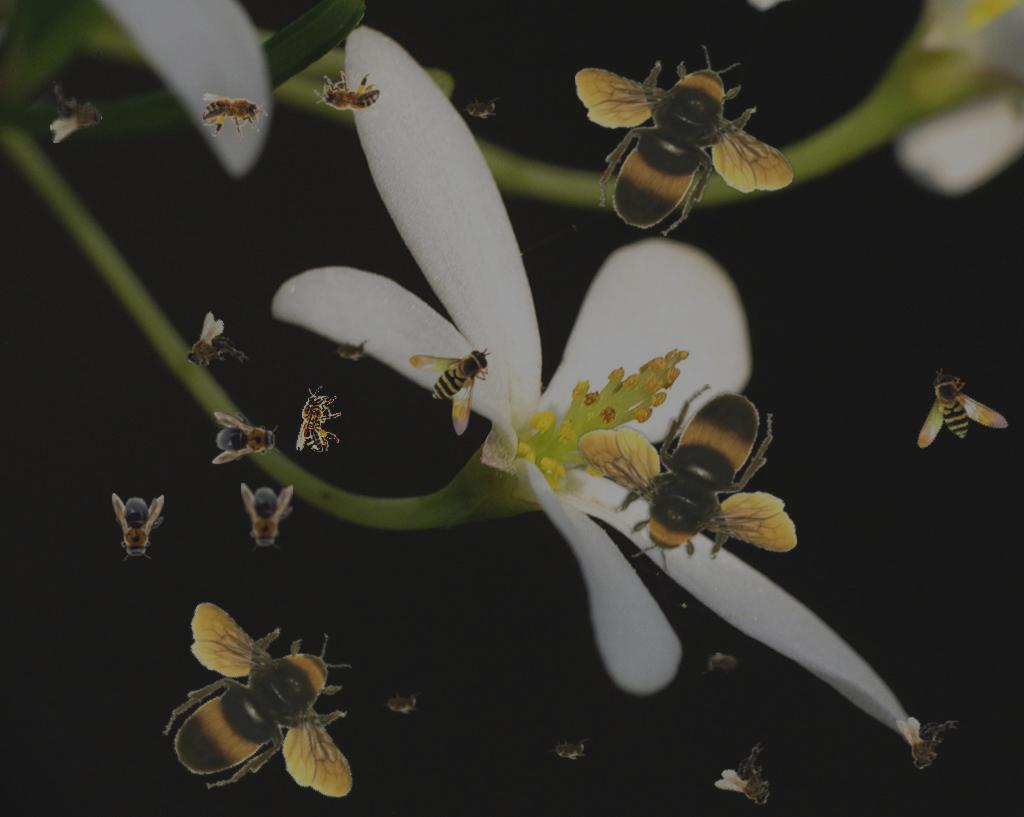Bee: (127, 577, 409, 817), (575, 45, 795, 236), (577, 384, 797, 575), (908, 366, 1020, 474), (409, 348, 491, 436), (171, 309, 252, 391), (711, 739, 794, 817), (241, 483, 293, 551), (212, 412, 280, 464), (112, 493, 164, 561), (200, 90, 270, 139), (50, 81, 103, 143), (896, 717, 958, 770), (296, 386, 341, 452), (314, 71, 380, 116), (549, 738, 589, 760), (460, 97, 500, 119), (331, 339, 371, 361), (703, 652, 743, 674), (381, 692, 421, 714)
